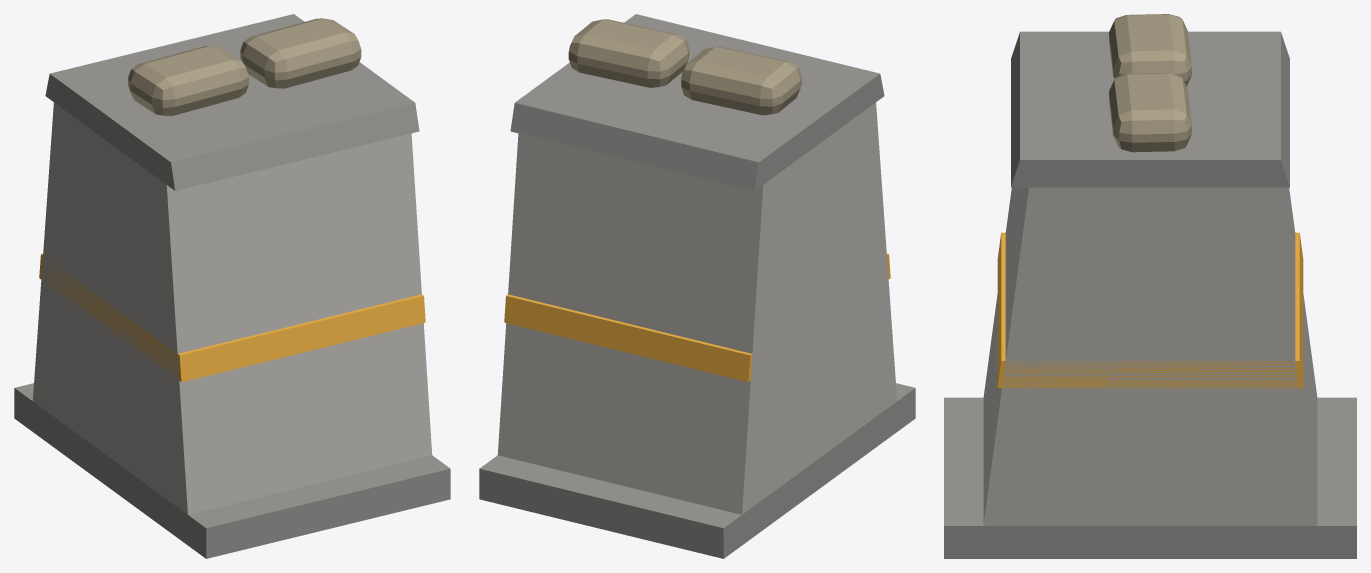
File: wall_link_orange.glb
3 views of the same model, side by side, from view 1: azimuth 30°, elevation 25°; view 2: azimuth 150°, elevation 25°; view 3: azimuth 270°, elevation 25° (orthographic). The views are drawn at different scales.
Visible parts, largest first — view 1: Body; view 2: Body; view 3: Body.
Part boxes in pixels (bbox=[...]): Body: bbox=[14, 14, 450, 558]; Body: bbox=[479, 14, 915, 558]; Body: bbox=[944, 14, 1356, 558].
Size of the model in its own units: 1 by 1.6 by 1.36.
Materials: 1 (1 with a texture image).
